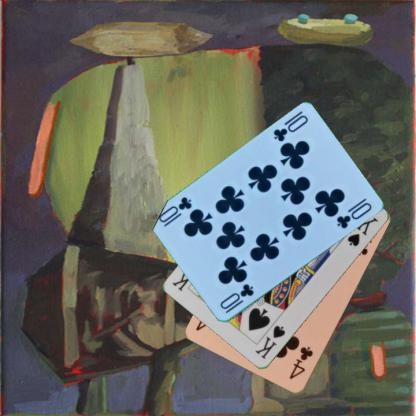10c: (270, 113, 310, 143), (218, 282, 256, 312)
4c: (287, 344, 314, 381)
Ks: (252, 323, 287, 361)
